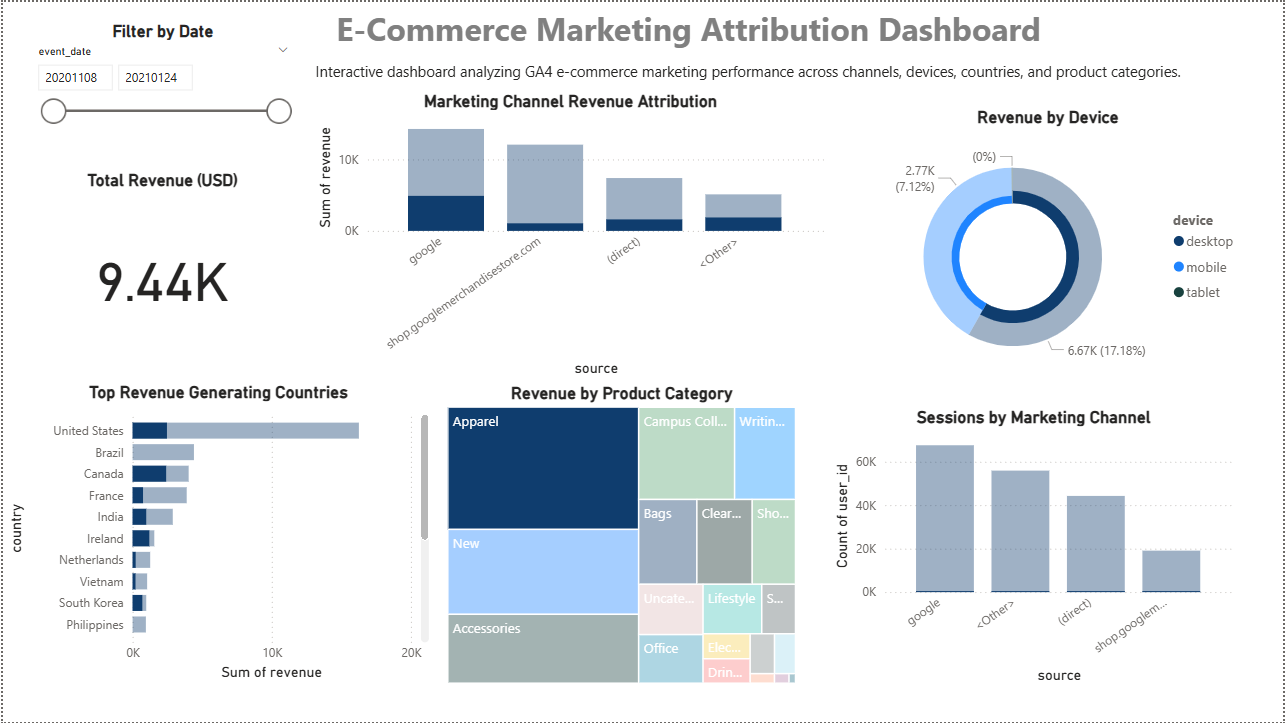

What the dashboard file says about the page in this screenshot:
{"tool":"powerbi","page":{"name":"Page 1","canvas":[1280,720],"ordinal":0},"visuals":[{"type":"textbox","box":[215.6,0,941.1,53.3],"z":0},{"type":"columnChart","title":"Marketing Channel Revenue Attribution","fields":{"Y":["Sum(ga4_ecommerce_data.revenue)"],"Category":["ga4_ecommerce_data.source"]},"box":[308.9,88.9,517.8,291.1],"z":1000},{"type":"textbox","box":[0,140,300,165],"z":2000},{"type":"donutChart","title":"Revenue by Device","fields":{"Category":["ga4_ecommerce_data.device"],"Y":["Sum(ga4_ecommerce_data.revenue)"]},"box":[844.4,105.6,400,281.1],"z":3000},{"type":"clusteredBarChart","title":"Top Revenue Generating Countries","fields":{"Category":["ga4_ecommerce_data.country"],"Y":["Sum(ga4_ecommerce_data.revenue)"]},"box":[0,380,431.1,303.3],"z":5000},{"type":"treemap","title":"Revenue by Product Category","fields":{"Group":["ga4_ecommerce_data.product_category"],"Values":["Sum(ga4_ecommerce_data.revenue)"]},"box":[439.7,380.8,357.7,305.1],"z":6000},{"type":"card","title":"Total Revenue (USD)","fields":{"Values":["Sum(ga4_ecommerce_data.revenue)"]},"box":[31.2,167.5,256.2,192.5],"z":8500},{"type":"textbox","box":[307.8,53.3,881.1,35.6],"z":8501},{"type":"clusteredColumnChart","title":"Sessions by Marketing Channel","fields":{"Category":["ga4_ecommerce_data.source"],"Y":["CountNonNull(ga4_ecommerce_data.user_id)"]},"box":[826.7,405.6,408.9,281.1],"z":8502},{"type":"slicer","title":"Filter by Date","fields":{"Values":["ga4_ecommerce_data.event_date"]},"box":[22.5,18.8,275,105],"z":8503}]}

Visuals, with their boxes in screenshot pixels (x1, y1, x2, y2), scaled from the page's 1280x720 canvas onto the 1285x723 screenshot:
textbox: 216:0:1161:54
"Marketing Channel Revenue Attribution" columnChart: 310:89:830:382
textbox: 0:141:301:306
"Revenue by Device" donutChart: 848:106:1249:388
"Top Revenue Generating Countries" clusteredBarChart: 0:382:433:686
"Revenue by Product Category" treemap: 441:382:801:689
"Total Revenue (USD)" card: 31:168:289:362
textbox: 309:54:1194:89
"Sessions by Marketing Channel" clusteredColumnChart: 830:407:1240:690
"Filter by Date" slicer: 23:19:299:124
